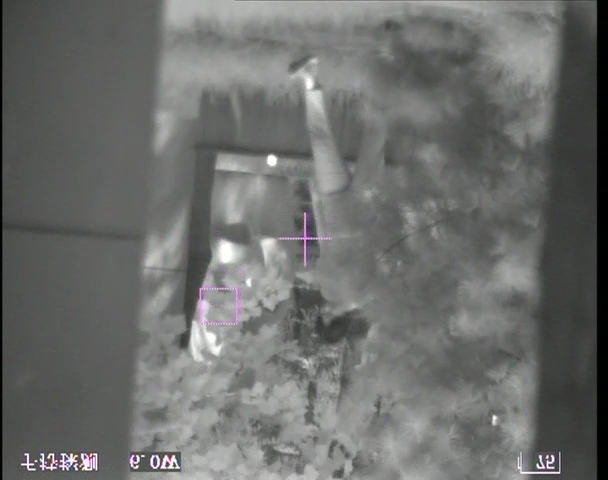my: (266, 153, 278, 166)
